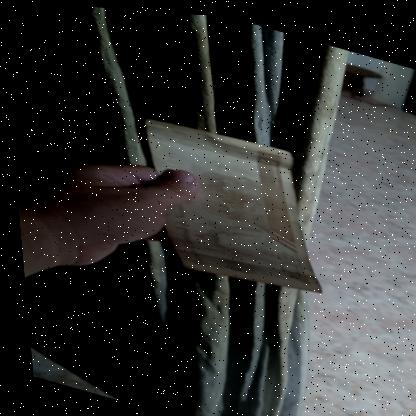five-back-vef: (113, 106, 345, 301)
